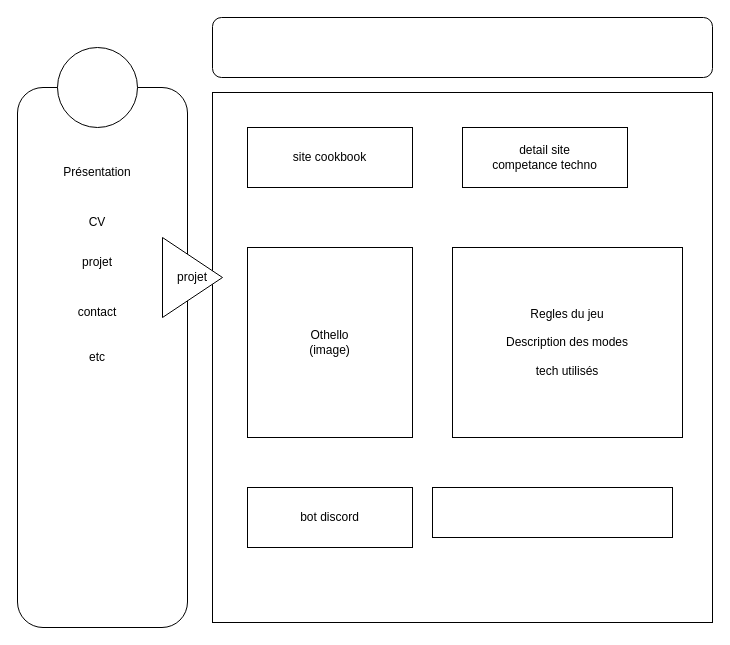
Some shapes in this 730 by 645 pixel diagram are drawn without their labels. Each missing label, with the centre of its shape:
"Developpeur Web Front-End Javascript" goes at point (462, 47).
"Photo" goes at point (97, 87).
"Quelle utilisation" goes at point (552, 512).
